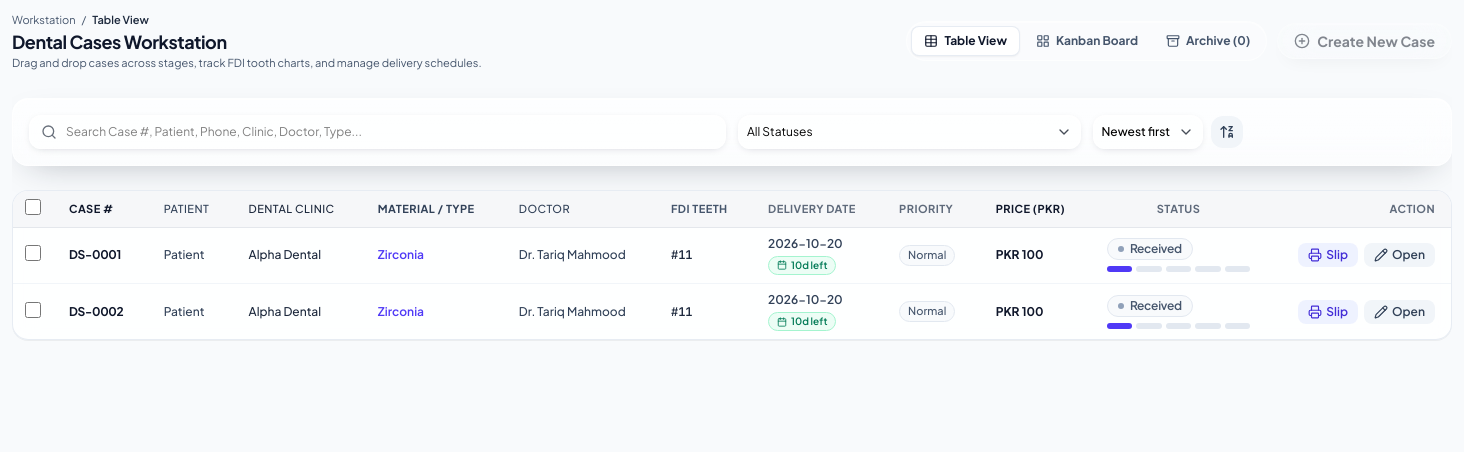
Test: bulk status change › offers the intermediate stages too, so the queue is not only forward-settable
The width and height of the screenshot is (1464, 452).
Step 1. Click the checkbox next to "DS-0001" → [33, 253], box [25,245,41,261]
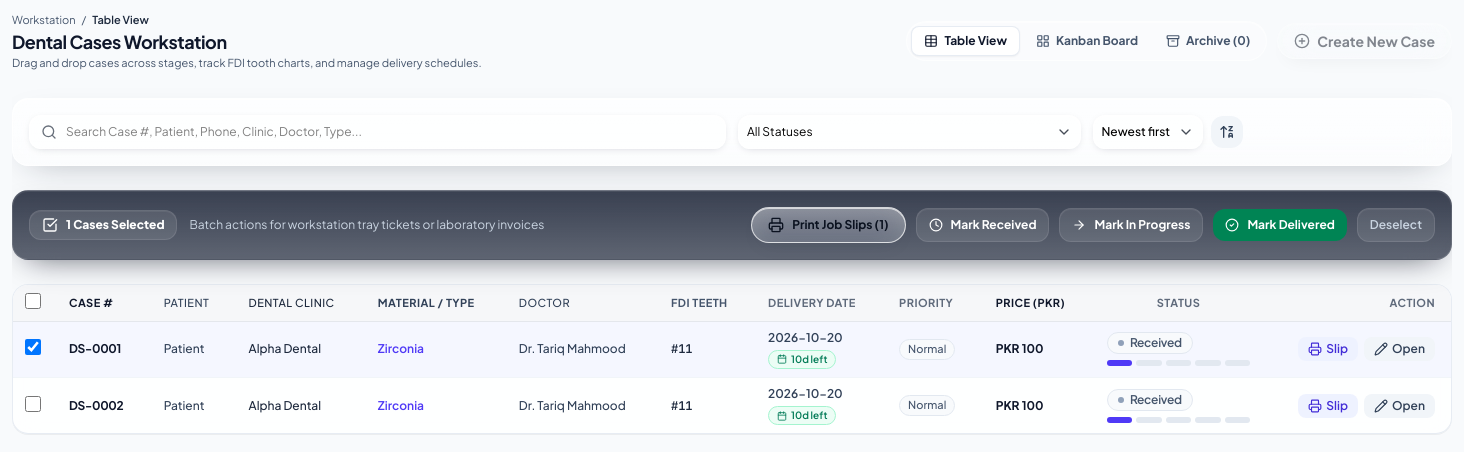
expect the button titled "as Received" is shown: met, box [916,208,1050,242]
expect the button titled "as In Progress" is shown: met, box [1060,208,1203,242]
expect the button titled "as Delivered" is shown: met, box [1213,209,1347,241]
